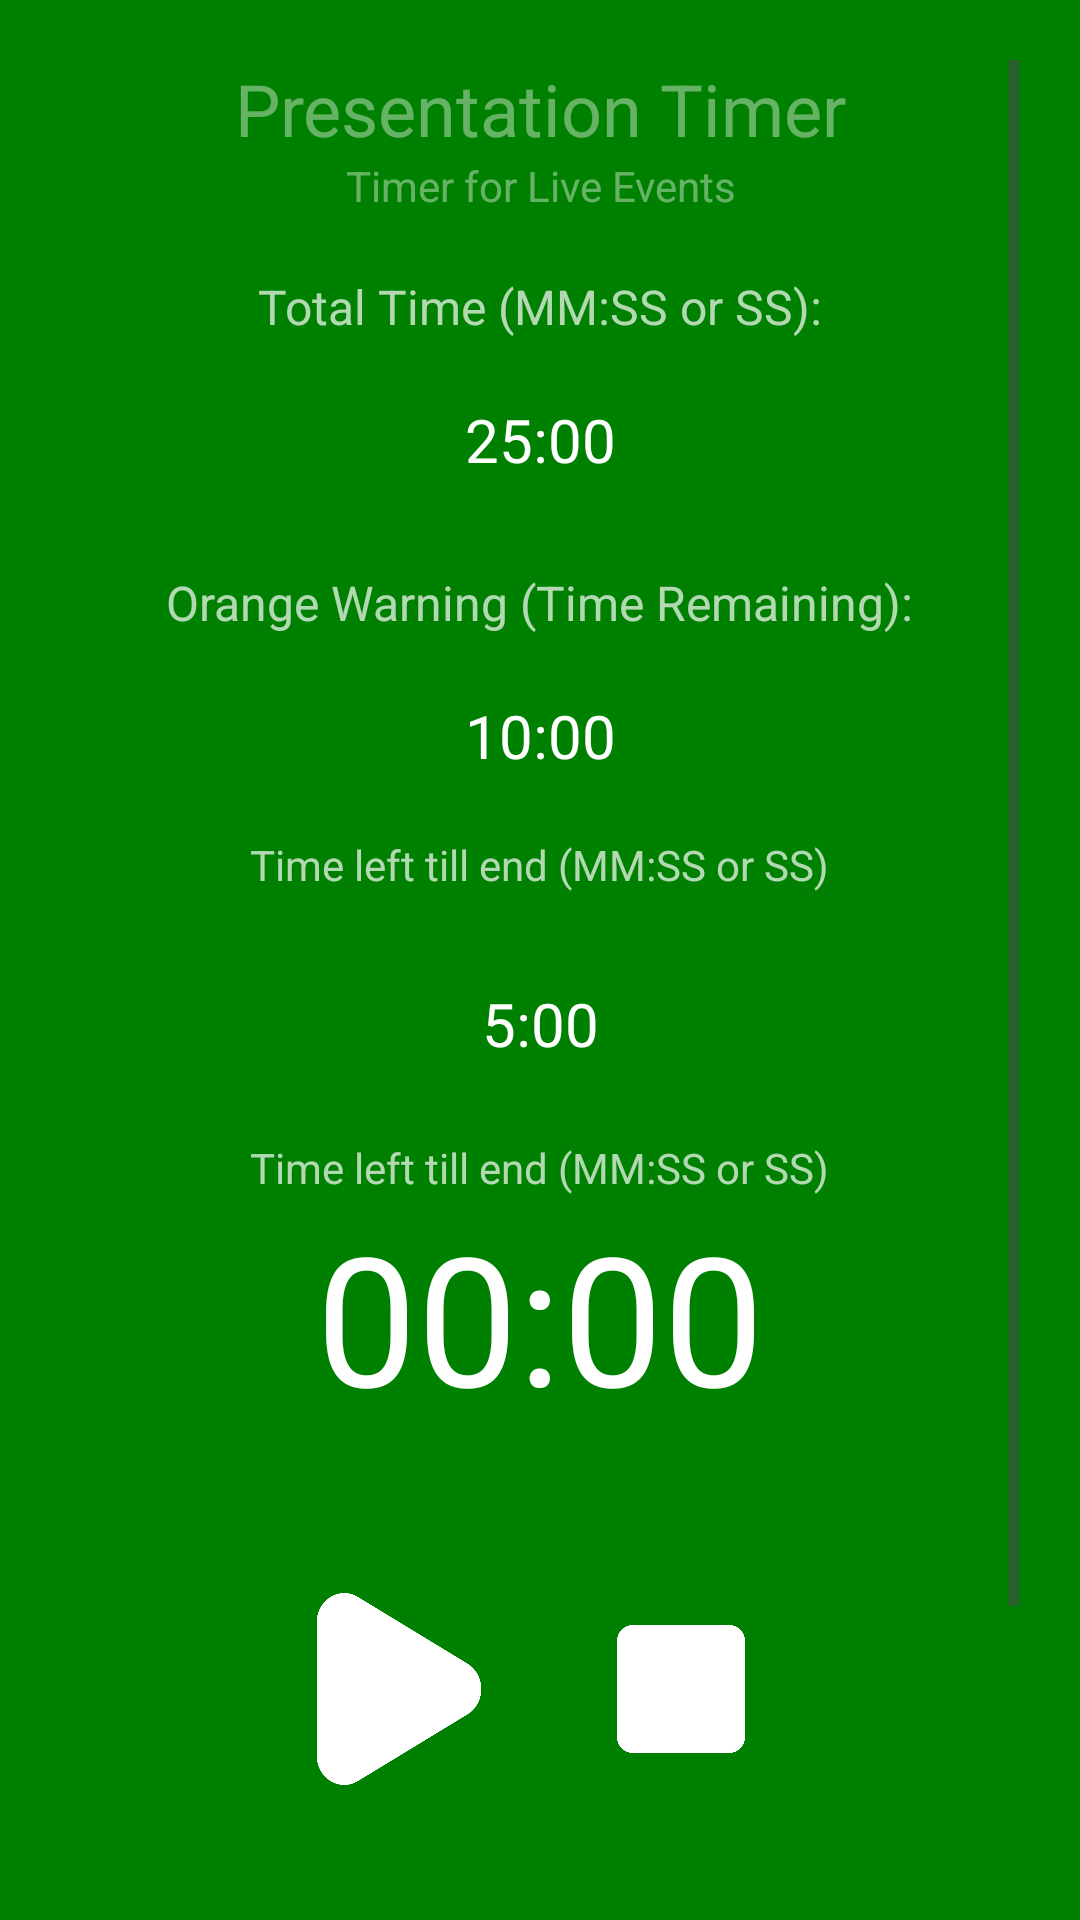

Point at icon controls on the screen. Image size 1080 × 1920, points as [x,y].
Play/Pause: [399,1689]
